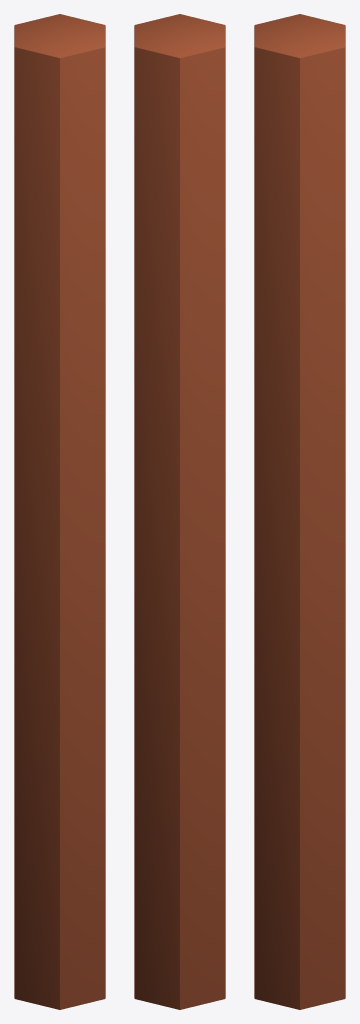
The model's file is Terrain_Piece.fbx.
The picture shows the model from 3 angles, left to right: view 1: azimuth 90°, elevation 25°; view 2: azimuth 150°, elevation 25°; view 3: azimuth 330°, elevation 25°; orthographic projection.
Parts seen in each view (by area): view 1: Terrain_Piece; view 2: Terrain_Piece; view 3: Terrain_Piece.
Part boxes in pixels (x1,y1,x2,y2): Terrain_Piece: (14,14,105,1009); Terrain_Piece: (134,14,225,1009); Terrain_Piece: (254,14,345,1009).
Size of the model in its own units: 1.99 by 20 by 1.73.
